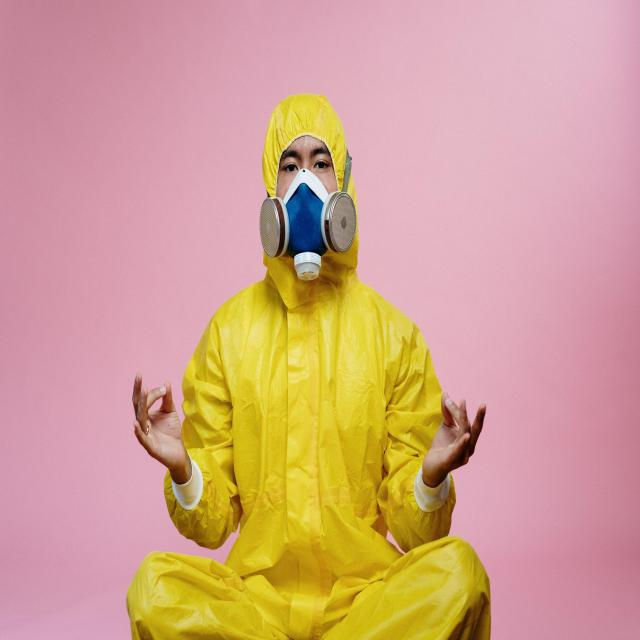Coverall: (124, 94, 496, 640)
Mask: (261, 168, 354, 290)
